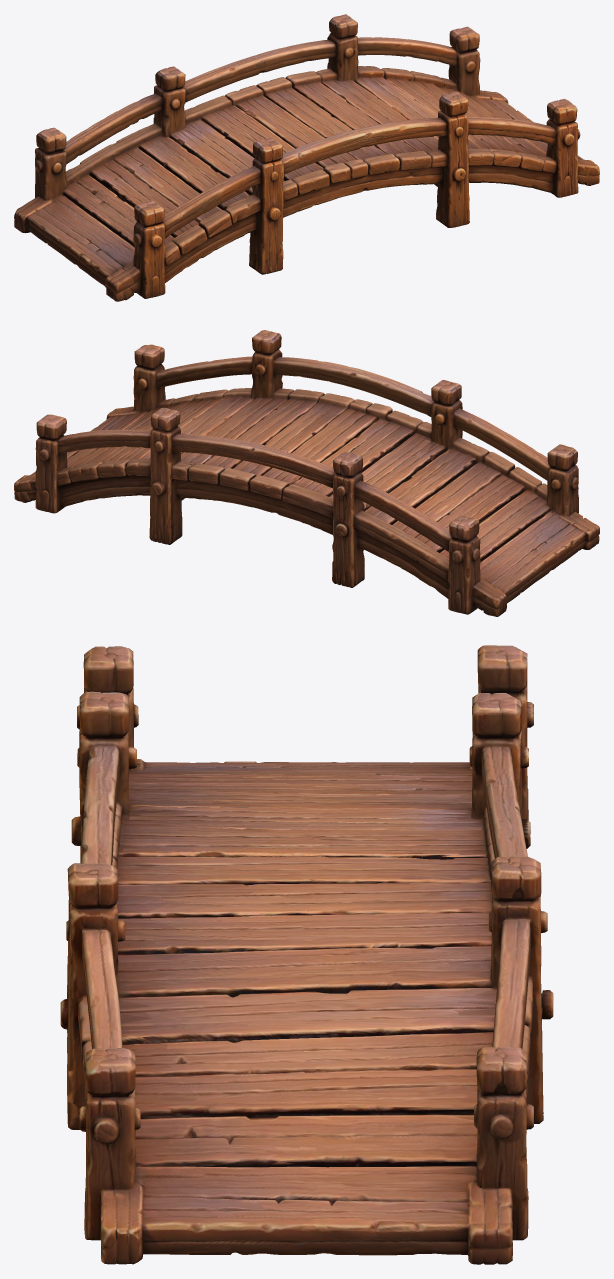
Rendered from bridge.glb.
The picture shows the model from 3 angles, top to bottom: view 1: azimuth 30°, elevation 25°; view 2: azimuth 150°, elevation 25°; view 3: azimuth 270°, elevation 25°; orthographic projection. The views are drawn at different scales.
Parts seen in each view (by area): view 1: tripo_node_7ff562dc-a45a-4f36-a537-4893291a9936; view 2: tripo_node_7ff562dc-a45a-4f36-a537-4893291a9936; view 3: tripo_node_7ff562dc-a45a-4f36-a537-4893291a9936.
Part boxes in pixels (box(x1,y1,x2,y2)): tripo_node_7ff562dc-a45a-4f36-a537-4893291a9936: box(14, 14, 599, 301); tripo_node_7ff562dc-a45a-4f36-a537-4893291a9936: box(14, 330, 599, 616); tripo_node_7ff562dc-a45a-4f36-a537-4893291a9936: box(60, 645, 553, 1264).
Size of the model in its own units: 5.8 by 1.49 by 2.55.
Materials: 1 (1 with a texture image).
